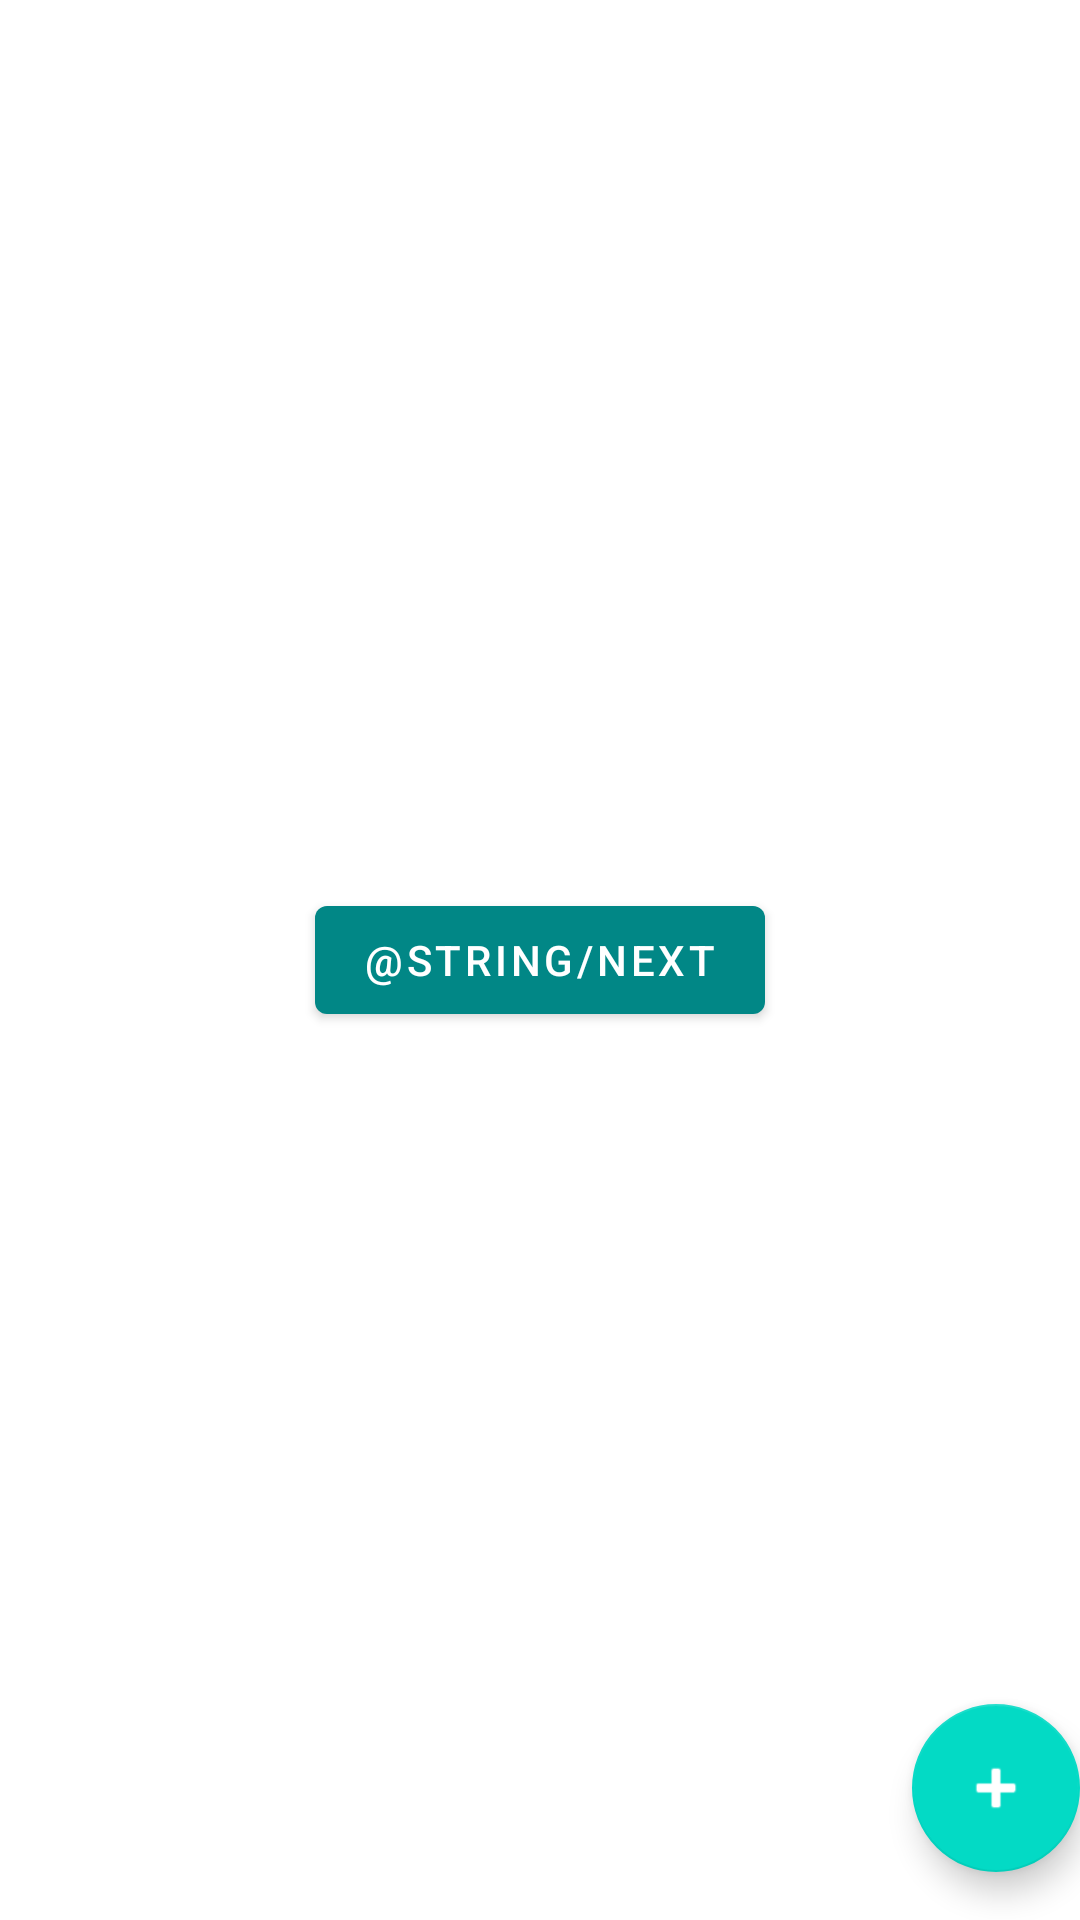

Point at icon controls on the screen. Image size 1080×1920, points as (x,y).
Botão de mais: (996,1788)
